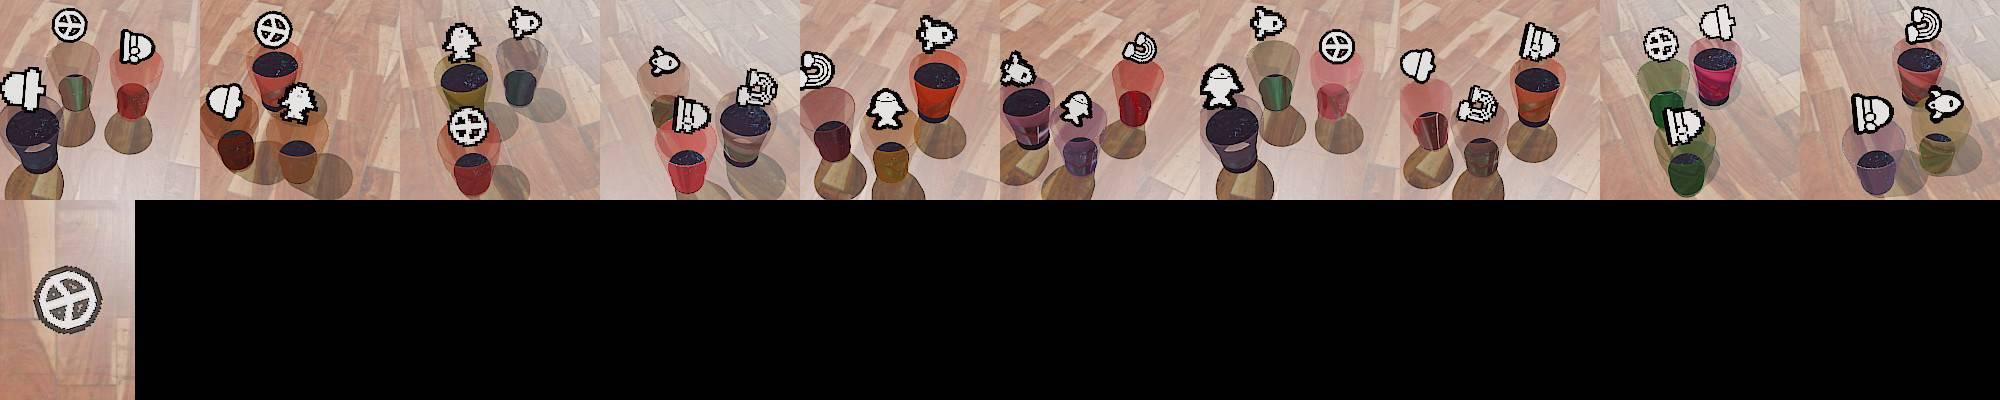icon: (32, 265, 104, 335), (1198, 62, 1243, 110), (0, 66, 45, 111), (274, 81, 319, 125), (865, 87, 908, 130), (1662, 105, 1705, 148), (1518, 21, 1562, 63), (1850, 93, 1894, 135), (441, 21, 482, 64), (915, 14, 958, 55), (448, 106, 490, 147), (1456, 84, 1499, 124), (739, 67, 779, 109), (798, 48, 836, 91), (998, 49, 1038, 88), (254, 10, 293, 49), (205, 82, 245, 120), (1924, 85, 1964, 123), (1905, 6, 1942, 46), (1697, 4, 1736, 41), (1250, 5, 1287, 42), (1400, 48, 1436, 86), (1318, 28, 1356, 64), (1643, 25, 1679, 63), (1057, 90, 1094, 126), (51, 7, 87, 44), (675, 96, 711, 132), (119, 28, 154, 65), (507, 5, 542, 41), (1120, 30, 1157, 64), (648, 45, 681, 77)
